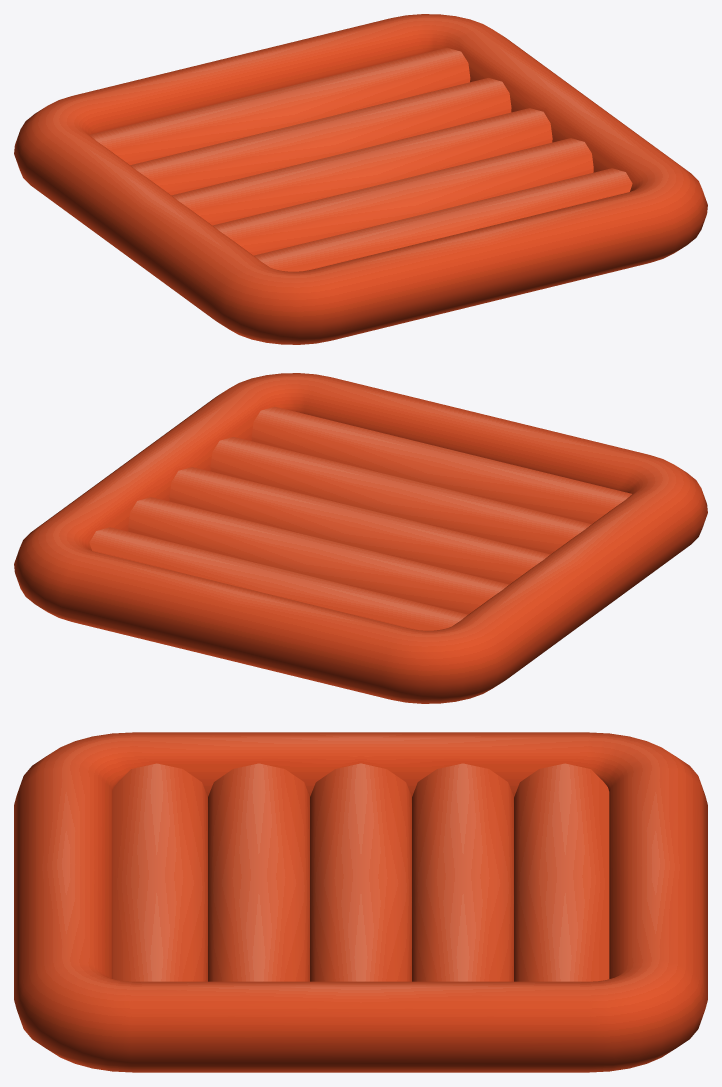
File: tube_cube_red.fbx
The picture shows the model from 3 angles, top to bottom: view 1: azimuth 30°, elevation 25°; view 2: azimuth 150°, elevation 25°; view 3: azimuth 270°, elevation 25°; orthographic projection. The views are drawn at different scales.
Parts seen in each view (by area): view 1: tube_cube_red; view 2: tube_cube_red; view 3: tube_cube_red.
Part boxes in pixels (x1,y1,x2,y2): tube_cube_red: [14, 14, 707, 344]; tube_cube_red: [14, 373, 707, 703]; tube_cube_red: [14, 732, 707, 1072].
Size of the model in its own units: 80 by 10.09 by 80.
